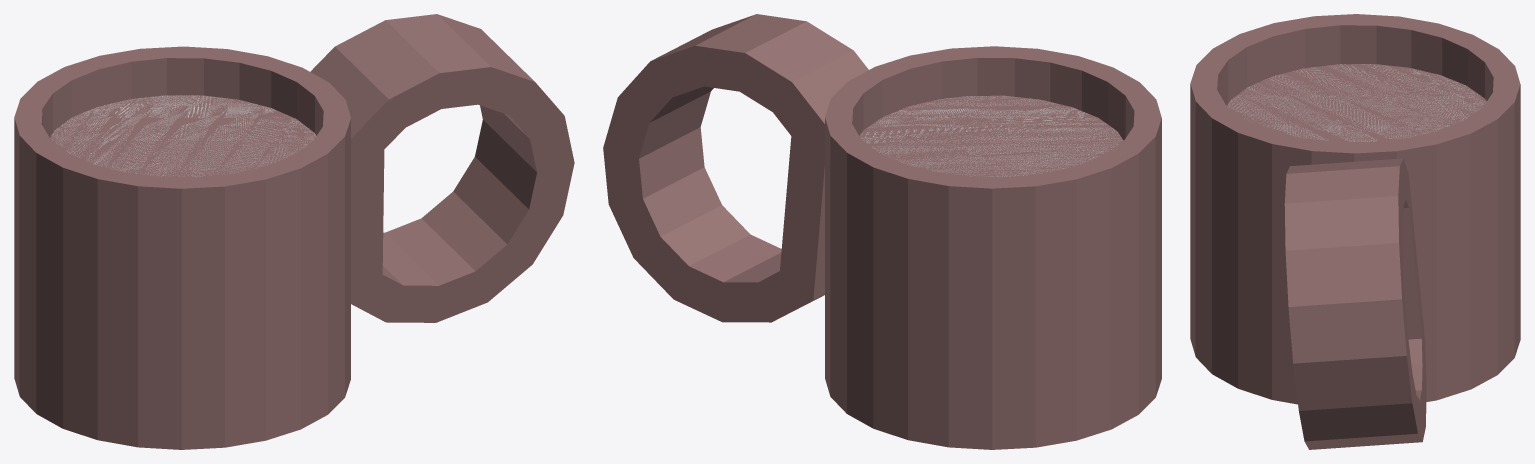
3 renders of one model, left to right at view 1: azimuth 30°, elevation 25°; view 2: azimuth 150°, elevation 25°; view 3: azimuth 270°, elevation 25°, orthographic. The views are drawn at different scales.
Parts seen in each view (by area): view 1: mesh1_mesh1-geometry, mesh2_mesh2-geometry; view 2: mesh1_mesh1-geometry, mesh2_mesh2-geometry; view 3: mesh1_mesh1-geometry, mesh2_mesh2-geometry.
Boxes of the visible parts, x1=… form: mesh1_mesh1-geometry: x1=14, y1=46, x2=350, y2=449; mesh2_mesh2-geometry: x1=310, y1=14, x2=574, y2=322; mesh1_mesh1-geometry: x1=825, y1=46, x2=1161, y2=449; mesh2_mesh2-geometry: x1=603, y1=14, x2=868, y2=322; mesh1_mesh1-geometry: x1=1190, y1=14, x2=1520, y2=404; mesh2_mesh2-geometry: x1=1284, y1=158, x2=1426, y2=449.
Bounding box in the file's own units: 0.7864 × 0.4233 × 0.4499.
